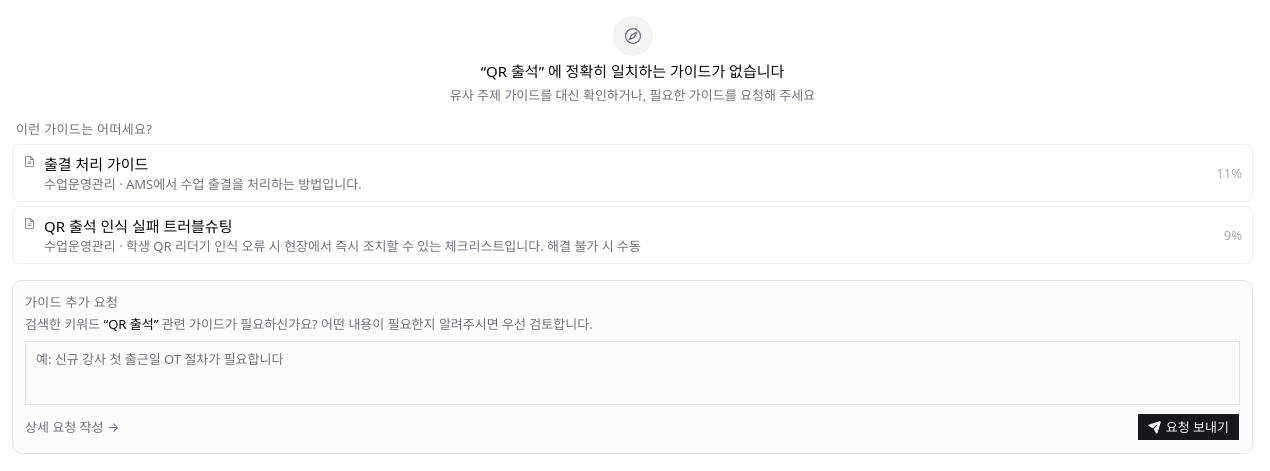
Test: NoResultFallback › 제출 버튼 클릭 시 localStorage 에 missing-guide 엔트리가 쌓인다
In the text box with placeholder "예: 신규 강사 첫 출근일 OT 절차가 필요합니다": {"x": 632, "y": 373} [25, 341, 1240, 405], type "비콘 연동 포함"
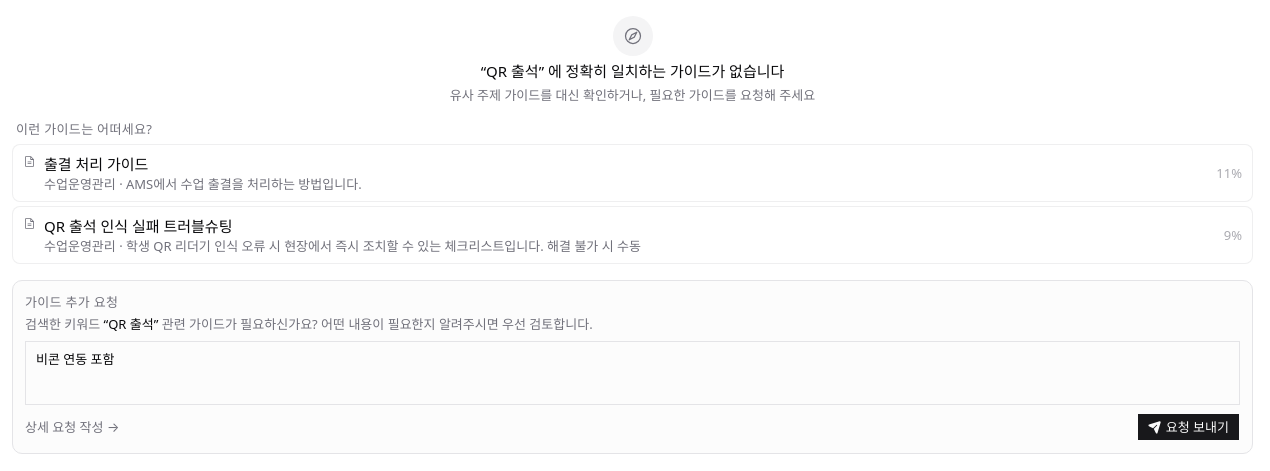
Click the button "요청 보내기": {"x": 1188, "y": 427} [1137, 413, 1240, 441]
Wait 300 ms
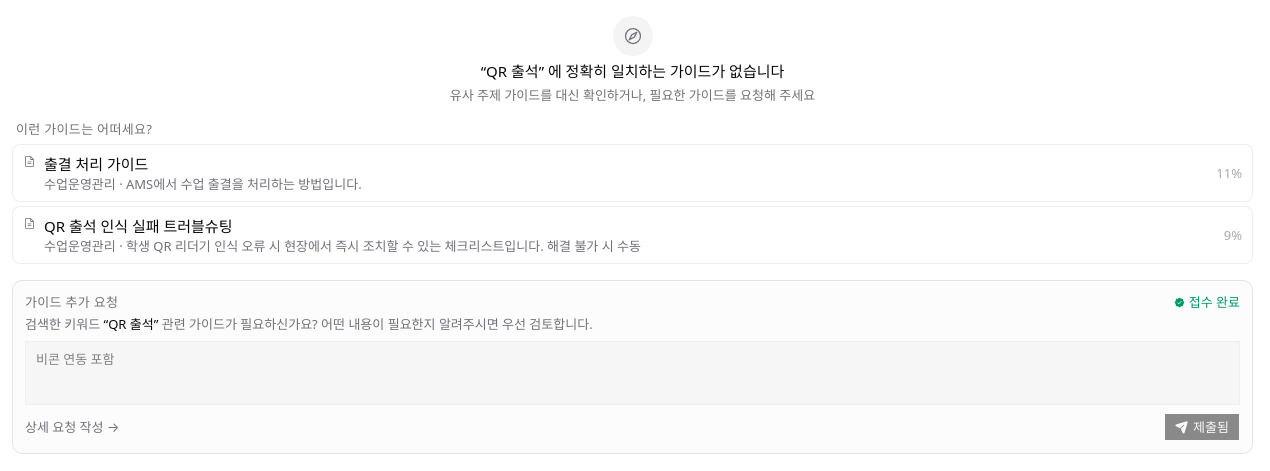
Expected: the text "접수 완료" is shown, [1174, 293, 1240, 311]
